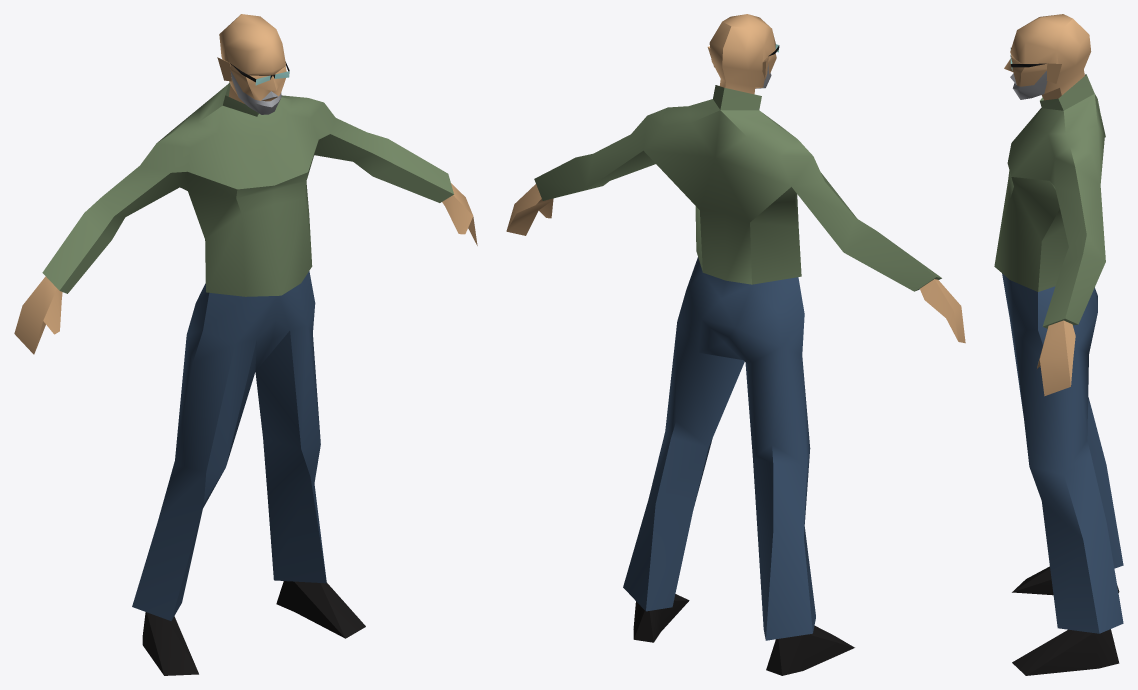
Rendered from Drunk.fbx.
3 renders of one model, left to right at view 1: azimuth 30°, elevation 25°; view 2: azimuth 150°, elevation 25°; view 3: azimuth 270°, elevation 25°, orthographic.
Parts seen in each view (by area): view 1: Group1; view 2: Group1; view 3: Group1.
Boxes of the visible parts, box(x1,y1,x2,y2) form: Group1: box(14, 14, 477, 675); Group1: box(506, 14, 965, 675); Group1: box(994, 14, 1123, 675).
Bounding box in the file's own units: 208 × 270 × 51.89.
